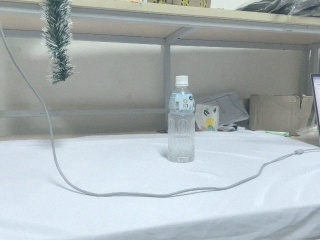bottle: (164, 74, 197, 165)
box: (247, 92, 316, 137)
